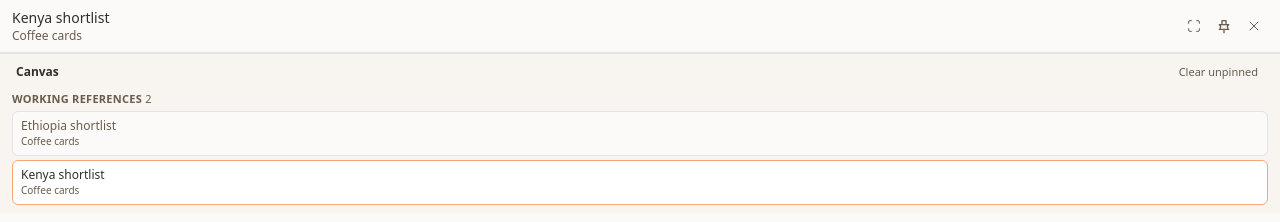
Canvas active scene and evidence shelf › switches the active scene from the shelf without rendering layout controls
Expected: the heading "Kenya shortlist" is shown, [12, 8, 110, 28]
Step 1. Click the button "Ethiopia shortlist Coffee cards" → (69, 126), box [12, 111, 1268, 156]
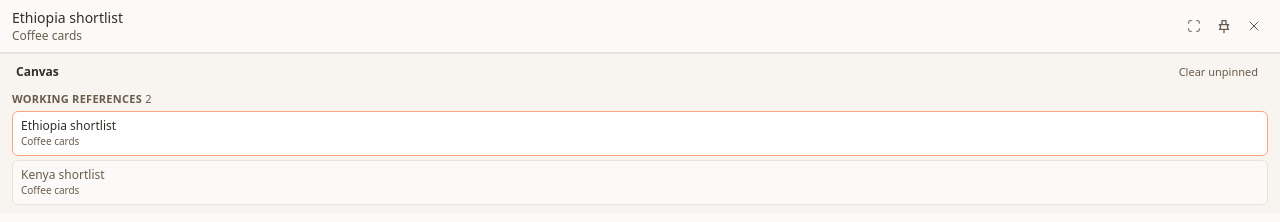
Expected: the heading "Ethiopia shortlist" is shown, [12, 8, 123, 28]
